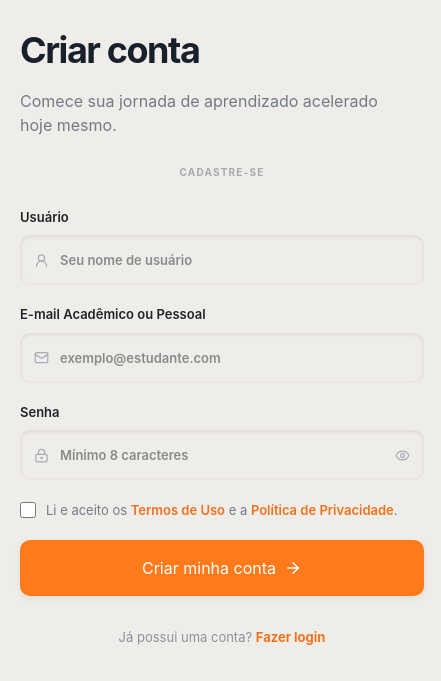
RegisterForm (tela de cadastro) › não cria a conta sem aceitar os termos
Type "ana" into the field with placeholder "Seu nome de usuário" at (222, 260), box [20, 235, 424, 285]
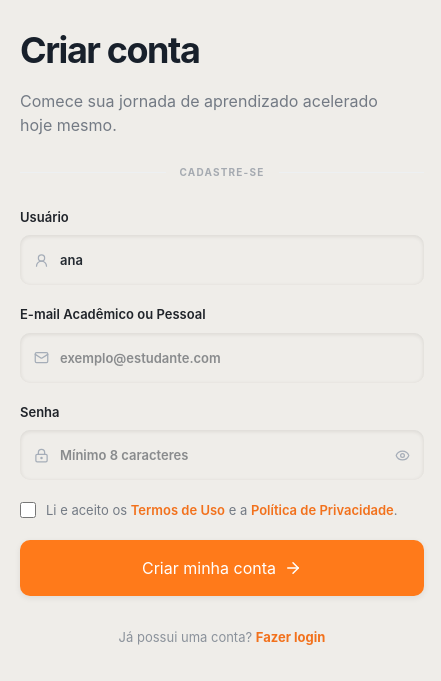
Type "ana@chatin.com" into the field with placeholder "exemplo@estudante.com" at (222, 358), box [20, 332, 424, 382]
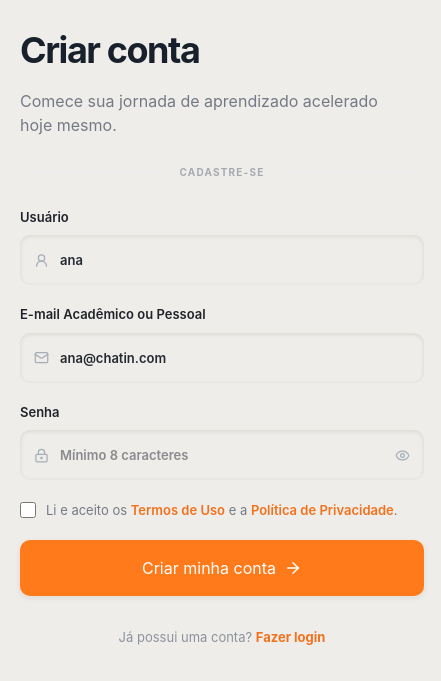
Type "senhaforte" into the password field with placeholder "Mínimo 8 caracteres" at (222, 455), box [20, 430, 424, 480]
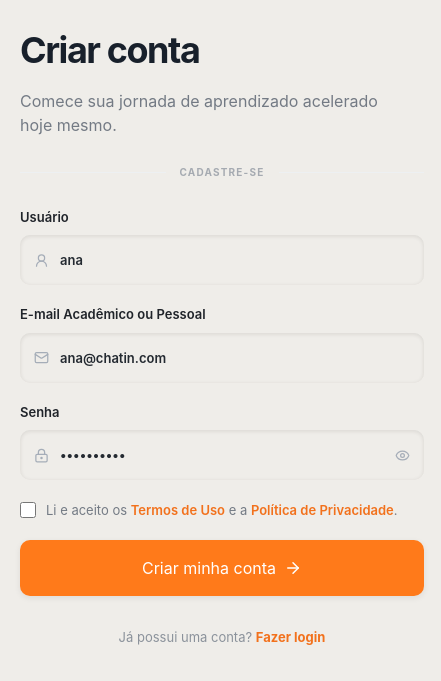
Click the button "Criar minha conta" at (222, 568), box [20, 540, 424, 596]
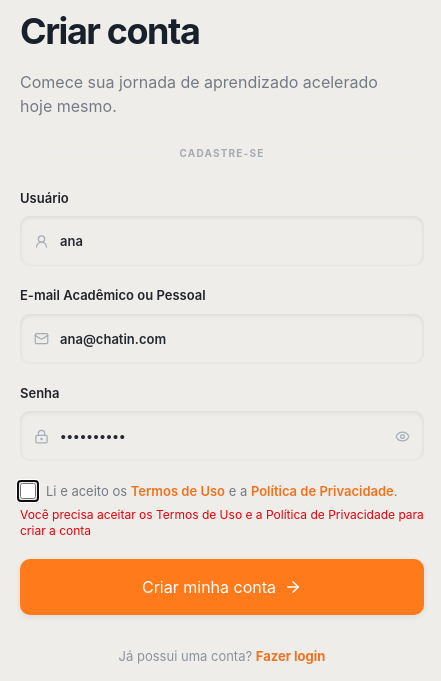
Now the message shows "Você precisa aceitar os Termos de Uso e a Política de Privacidade para criar a conta", box [20, 507, 424, 538]
